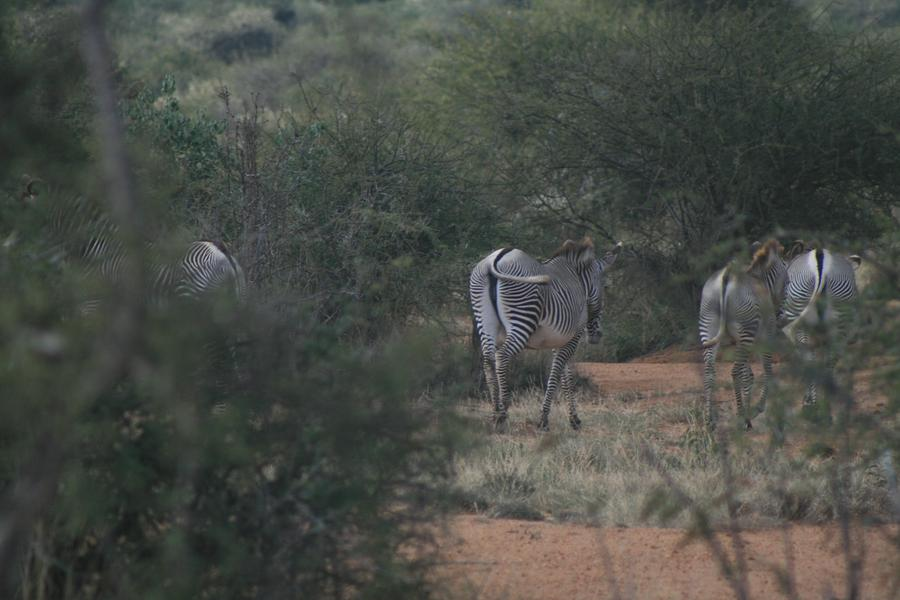zebra_grevys: (483, 237, 585, 350)
